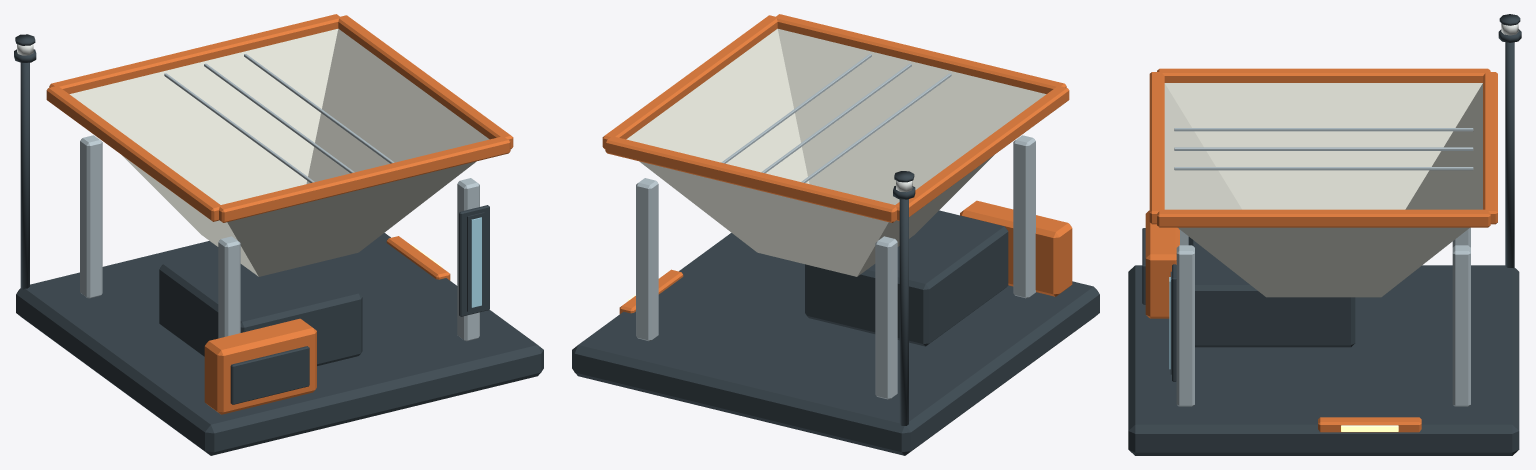
The model's file is hopper.glb.
3 views of the same model, side by side, from view 1: azimuth 30°, elevation 25°; view 2: azimuth 150°, elevation 25°; view 3: azimuth 270°, elevation 25° (orthographic).
Parts seen in each view (by area): view 1: hopper_dark.002, hopper_ivory.002, hopper_orange.002, hopper_metal.002, Level; view 2: hopper_dark.002, hopper_ivory.002, hopper_orange.002, hopper_metal.002; view 3: hopper_dark.002, hopper_ivory.002, hopper_orange.002, hopper_metal.002, hopper_light.
Part boxes in pixels (box(x1,y1,x2,y2)): hopper_dark.002: box(14, 34, 543, 455); hopper_ivory.002: box(69, 28, 489, 276); hopper_orange.002: box(46, 14, 513, 414); hopper_metal.002: box(80, 54, 479, 341); Level: box(471, 217, 481, 307); hopper_dark.002: box(572, 171, 1099, 455); hopper_ivory.002: box(626, 28, 1046, 276); hopper_orange.002: box(602, 14, 1072, 313); hopper_metal.002: box(636, 54, 1035, 399); hopper_dark.002: box(1128, 14, 1521, 455); hopper_ivory.002: box(1164, 83, 1482, 297); hopper_orange.002: box(1145, 68, 1497, 432); hopper_metal.002: box(1174, 128, 1473, 406); hopper_light: box(1341, 425, 1398, 431).
Bounding box in the file's own units: 3.43 × 2.68 × 3.42.
